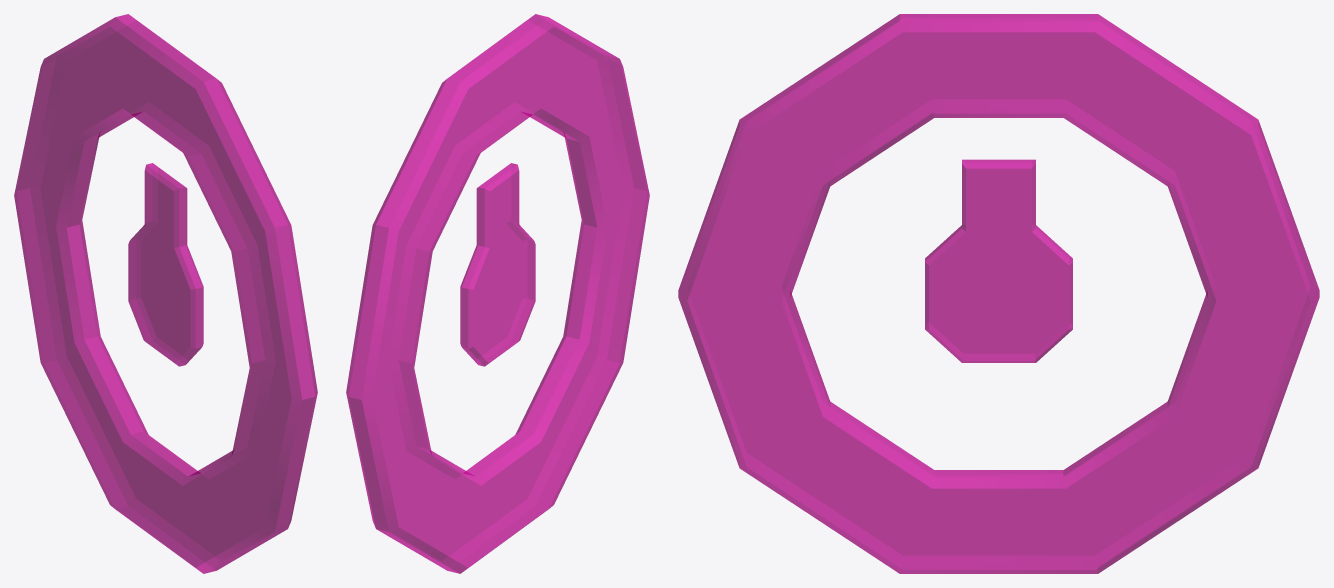
File: ToxicIcon.fbx
3 views of the same model, side by side, from view 1: azimuth 30°, elevation 25°; view 2: azimuth 150°, elevation 25°; view 3: azimuth 270°, elevation 25° (orthographic). The views are drawn at different scales.
Parts seen in each view (by area): view 1: ToxicIcon; view 2: ToxicIcon; view 3: ToxicIcon.
Part boxes in pixels (x1,y1,x2,y2): ToxicIcon: (14,14,317,573); ToxicIcon: (346,14,649,573); ToxicIcon: (678,14,1319,573).
Size of the model in its own units: 1 by 17.94 by 18.87.
